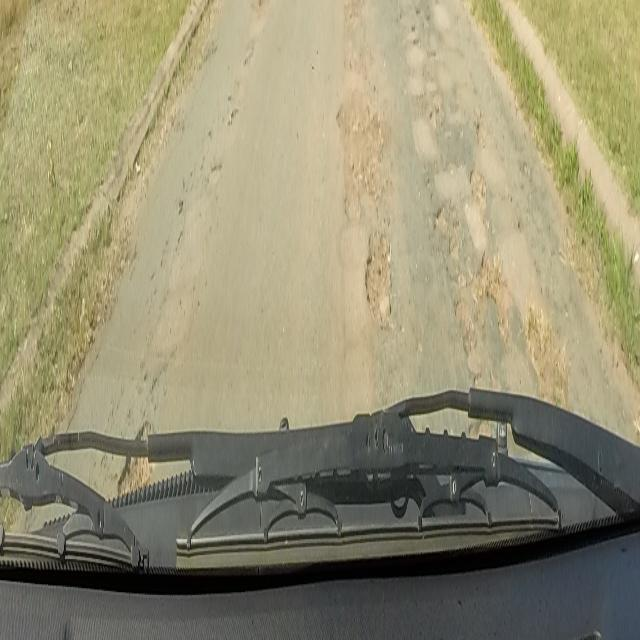pothole: (430, 164, 572, 387), (328, 98, 403, 328), (117, 406, 154, 494)
